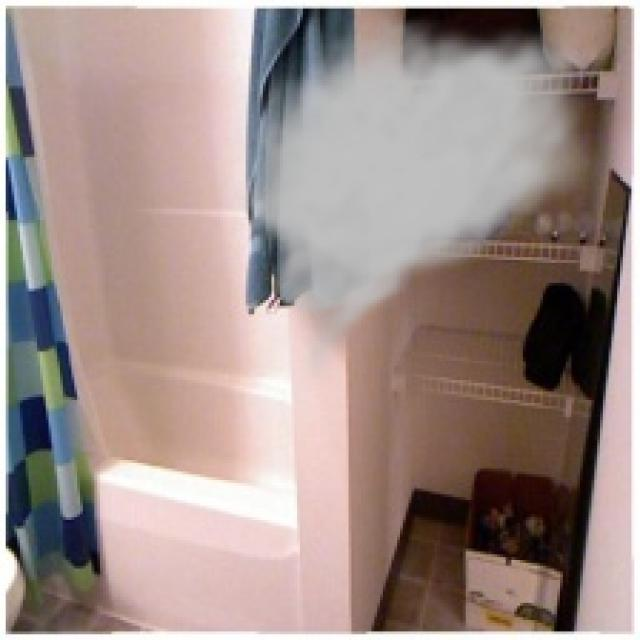smoke: (226, 11, 608, 392)
